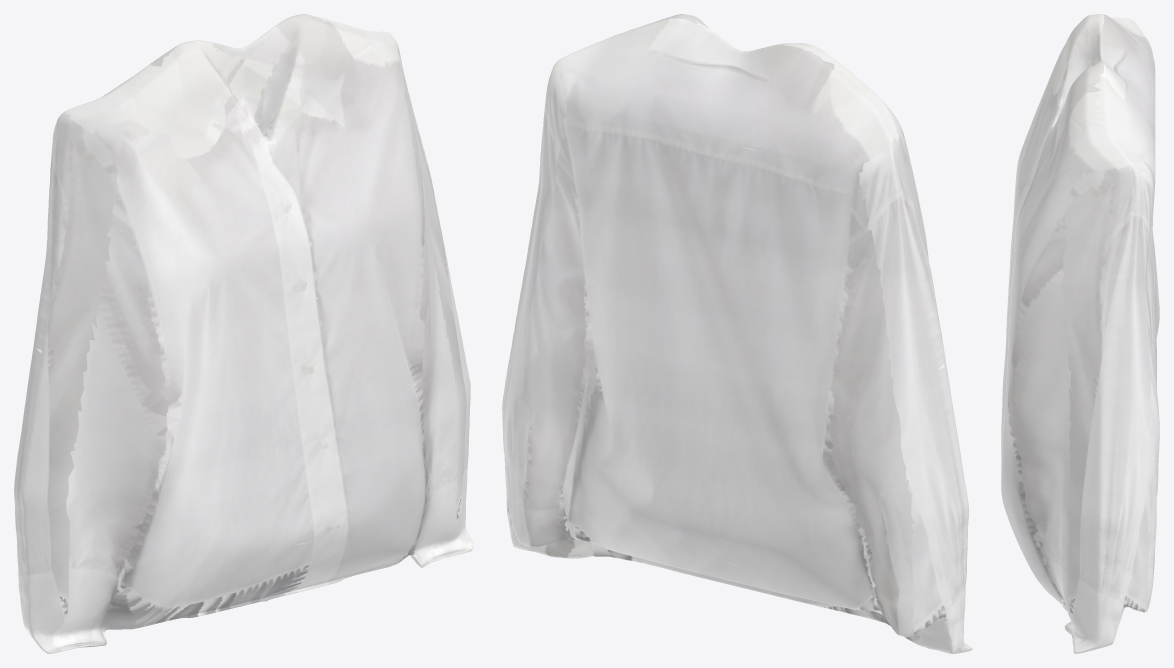
The model's file is NF013-fit-v5.glb.
3 views of the same model, side by side, from view 1: azimuth 30°, elevation 25°; view 2: azimuth 150°, elevation 25°; view 3: azimuth 270°, elevation 25° (orthographic). The views are drawn at different scales.
Parts seen in each view (by area): view 1: NF013_worn_photo_fitted; view 2: NF013_worn_photo_fitted; view 3: NF013_worn_photo_fitted.
Part boxes in pixels (x1,y1,x2,y2): NF013_worn_photo_fitted: [14, 14, 473, 653]; NF013_worn_photo_fitted: [502, 14, 972, 653]; NF013_worn_photo_fitted: [1001, 14, 1159, 653].
Bounding box in the file's own units: 0.5683 × 0.6838 × 0.19.
Materials: 3 (3 with a texture image).
